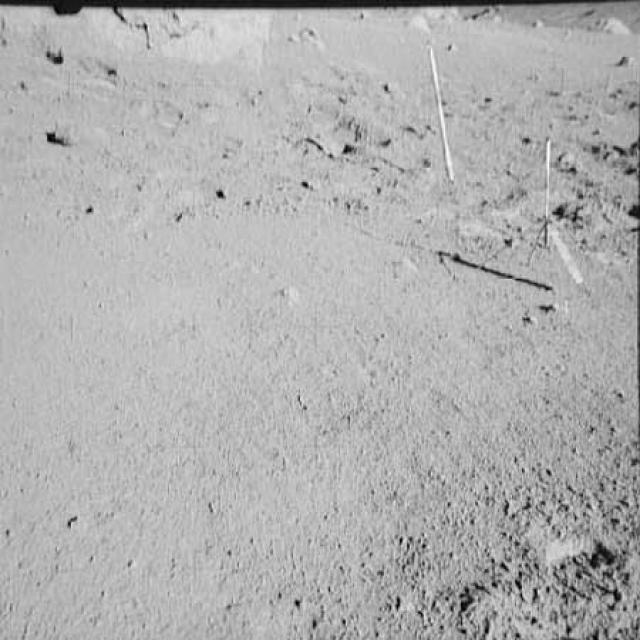artifact: (488, 136, 597, 285)
rock: (589, 10, 630, 40), (43, 118, 75, 150)
